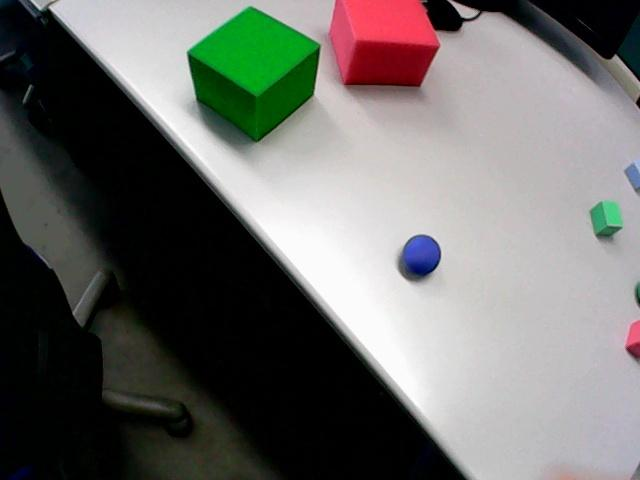blue_block: (625, 159, 640, 190), (6, 466, 38, 479)
red_block: (330, 0, 439, 85), (626, 320, 639, 357)
